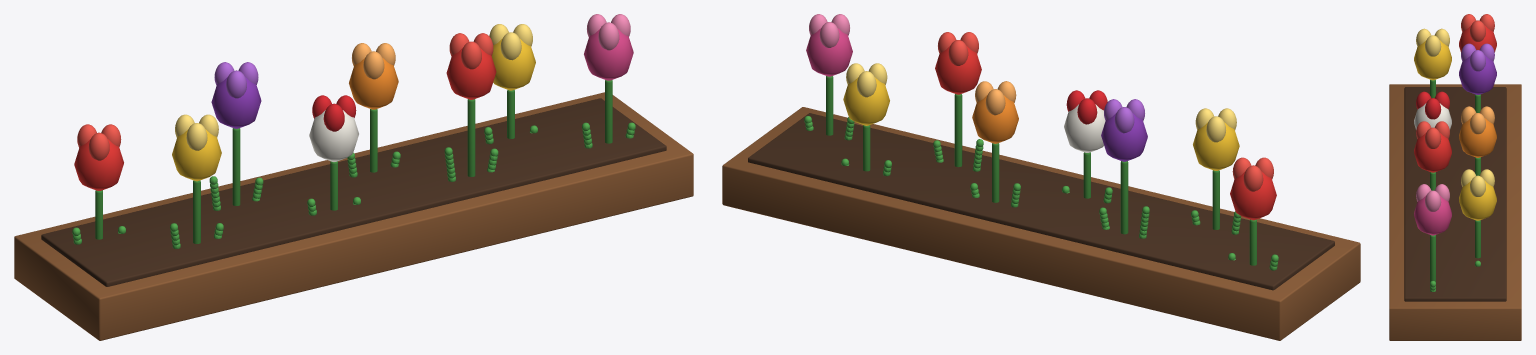
The model's file is tulip_bed.glb.
3 renders of one model, left to right at view 1: azimuth 30°, elevation 25°; view 2: azimuth 150°, elevation 25°; view 3: azimuth 270°, elevation 25°, orthographic. The views are drawn at different scales.
Visible parts, largest first — view 1: tulip_bed; view 2: tulip_bed; view 3: tulip_bed.
Part boxes in pixels (bbox=[...]): tulip_bed: bbox=[14, 14, 693, 340]; tulip_bed: bbox=[722, 14, 1360, 340]; tulip_bed: bbox=[1389, 14, 1521, 340].
Size of the model in its own units: 5.2 by 1.56 by 1.3.
